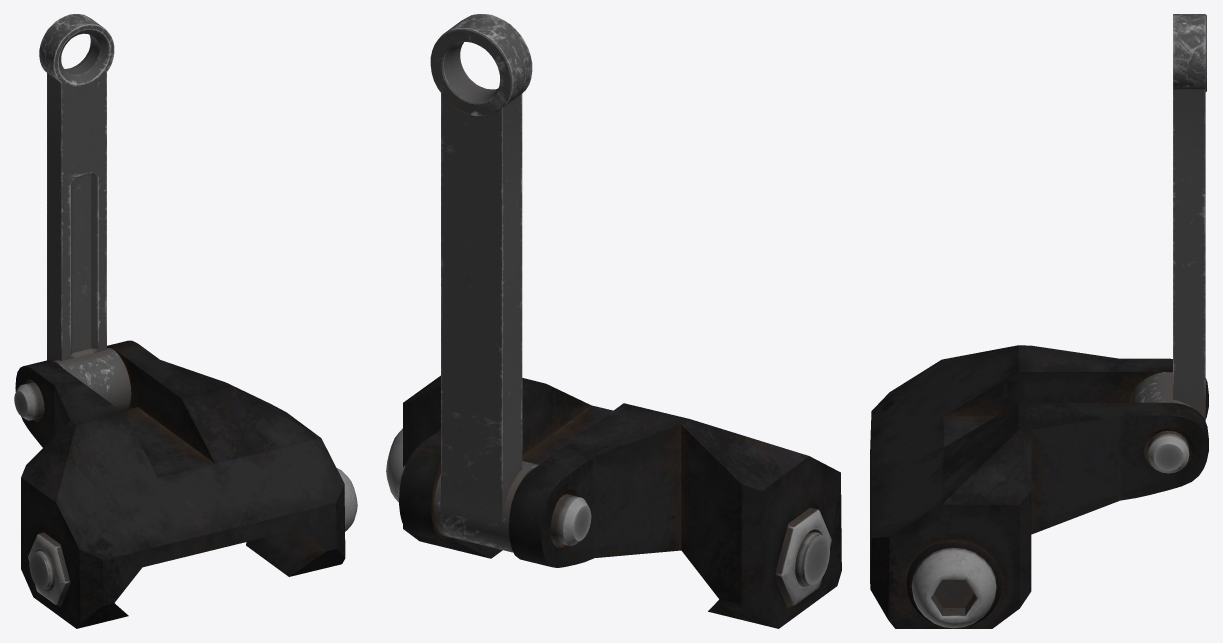
File: IronSights_5_B.glb
3 renders of one model, left to right at view 1: azimuth 30°, elevation 25°; view 2: azimuth 150°, elevation 25°; view 3: azimuth 270°, elevation 25°, orthographic. The views are drawn at different scales.
Parts seen in each view (by area): view 1: IronSights_5_B; view 2: IronSights_5_B, IronSights_5_B_Sight; view 3: IronSights_5_B.
Part boxes in pixels (left/top/right/bottom): IronSights_5_B: left=14, top=14, right=357, bottom=628; IronSights_5_B: left=386, top=14, right=841, bottom=628; IronSights_5_B_Sight: left=431, top=28, right=512, bottom=115; IronSights_5_B: left=870, top=14, right=1208, bottom=628.
Size of the model in its own units: 0.0312 by 0.0469 by 0.0267.
1 material, 1 textured.
